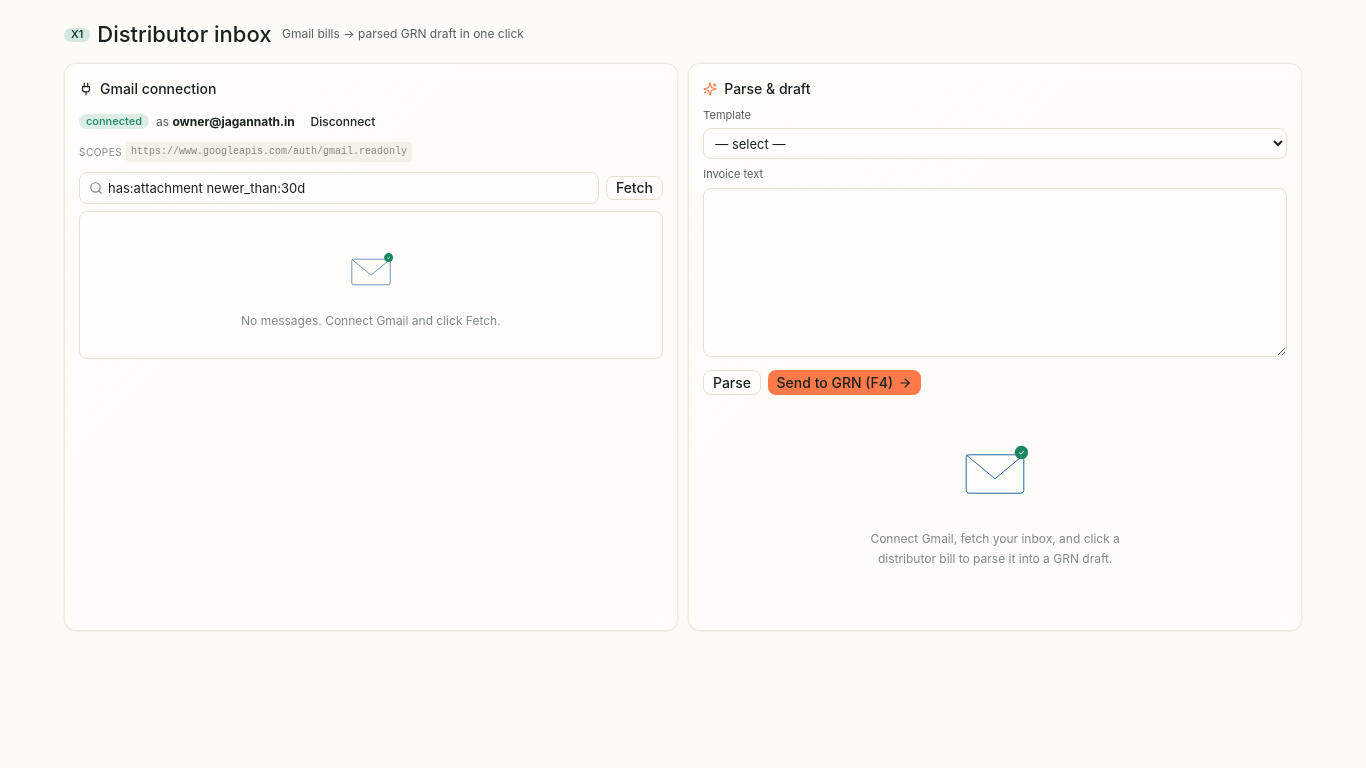
Test: GmailInboxScreen — G07 X1 moat surface › Disconnect resets messages + selection
expect the element with test id "gmail-status-connected" is shown: met, box top-left (156, 112), bottom-right (295, 131)
Click the button with test id "gmail-list".
click(634, 188)  # box top-left (606, 176), bottom-right (663, 200)
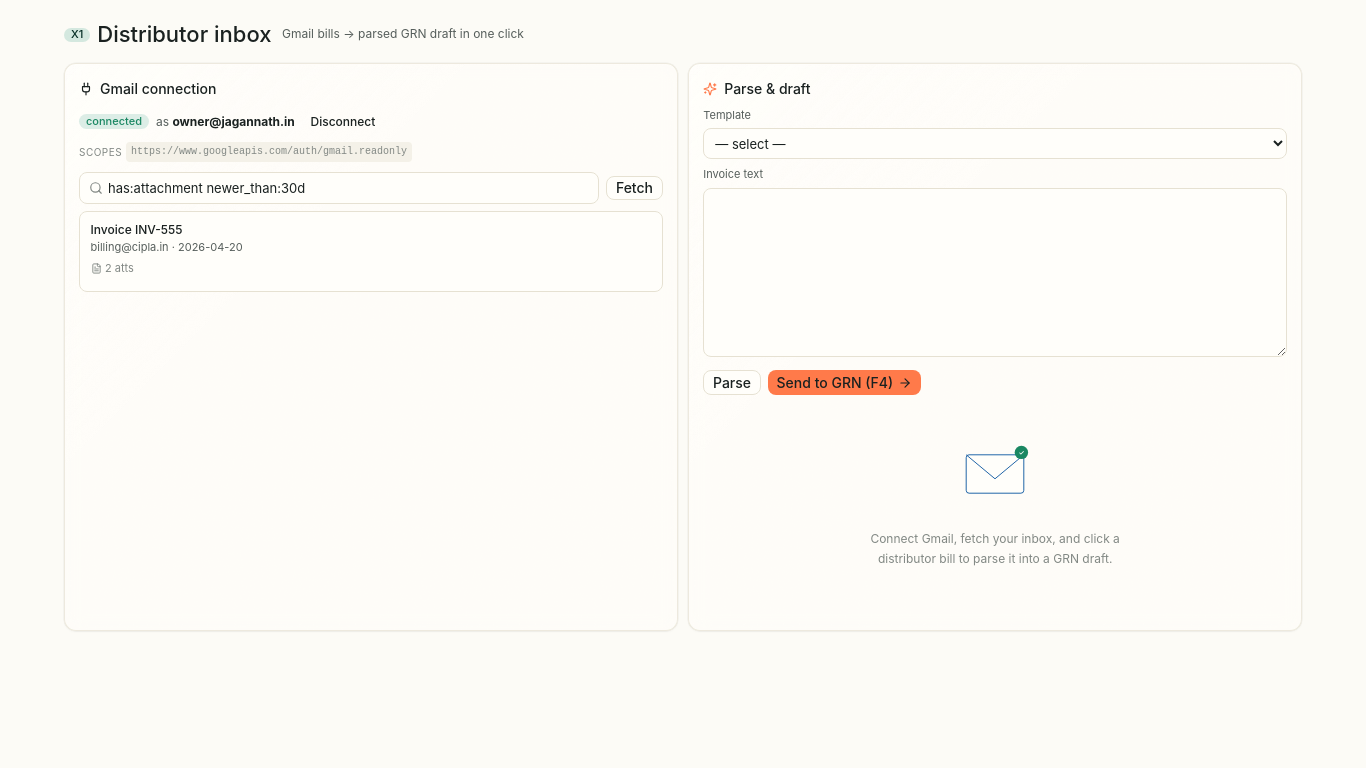
expect the list item with test id "gmail-msg-m_001" is shown: met, box top-left (90, 222), bottom-right (243, 275)
Click the button with test id "gmail-disconnect".
click(343, 121)  # box top-left (302, 109), bottom-right (384, 134)
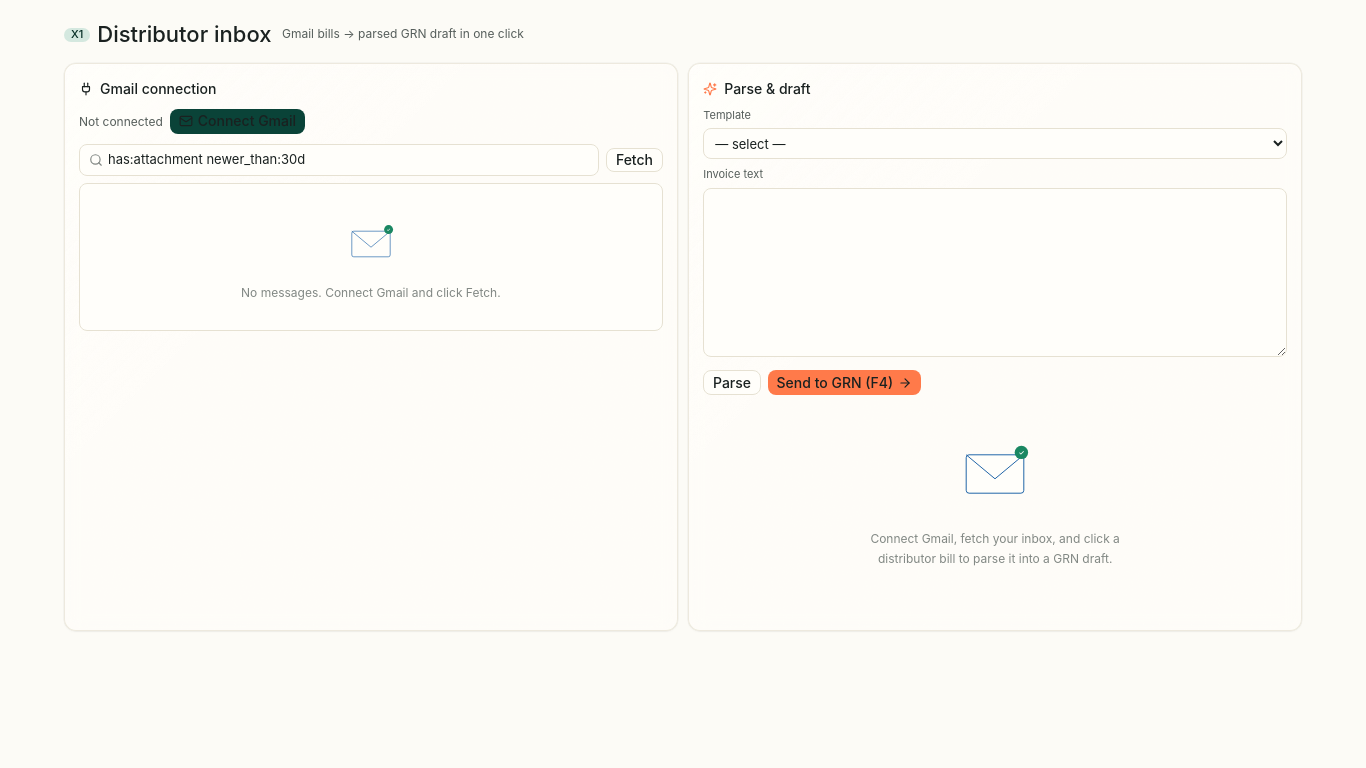
expect the text "Not connected" is shown: met, box top-left (79, 112), bottom-right (163, 131)
expect the list item with test id "gmail-msg-m_001" is gone: met
